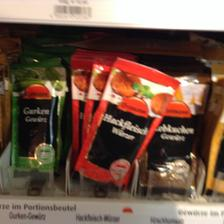Gewuerze: (76, 54, 176, 186), (152, 66, 208, 198), (7, 58, 65, 182)
